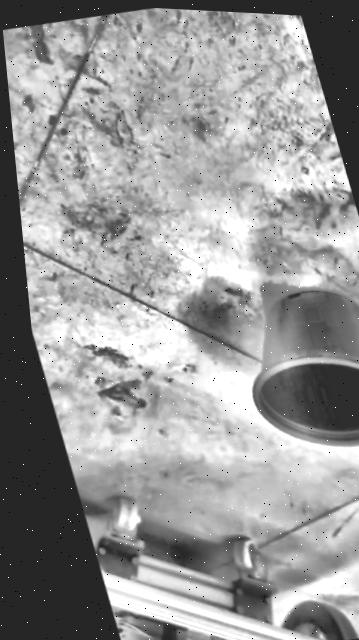pot: (221, 273, 359, 464)
